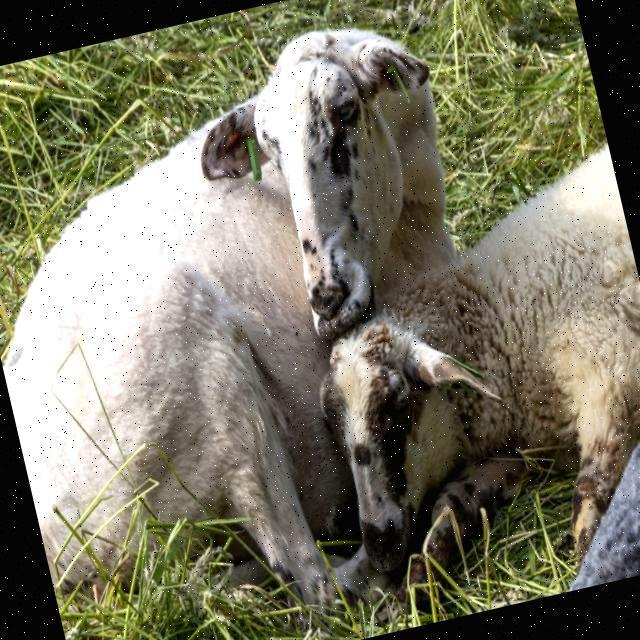sheep: (0, 26, 448, 610), (327, 145, 640, 588), (572, 440, 640, 588)
